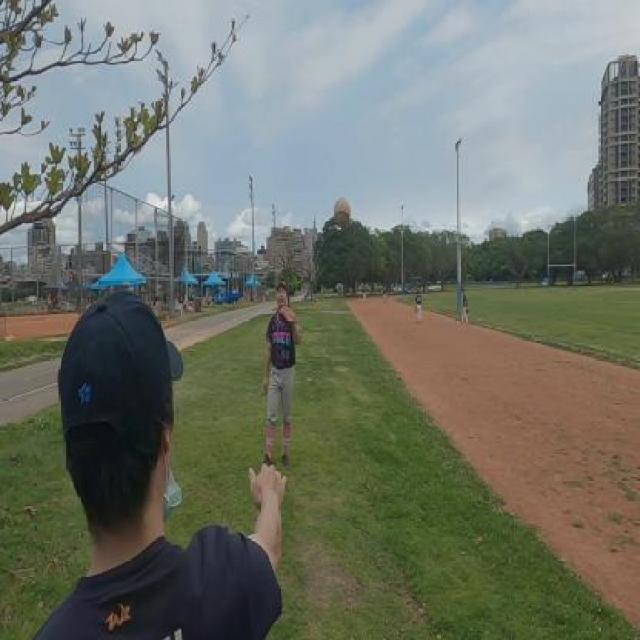ball: (332, 196, 353, 227)
